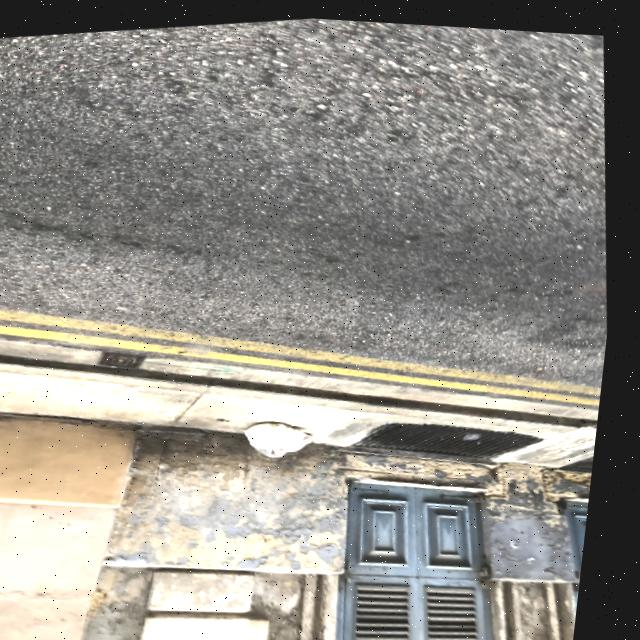Organic Waste -White Bag-: (249, 409, 327, 459)
